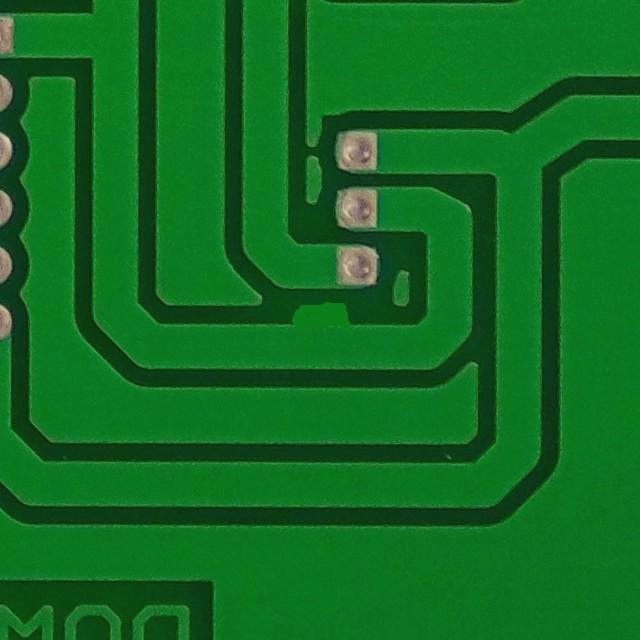spur: (271, 292, 369, 348)
